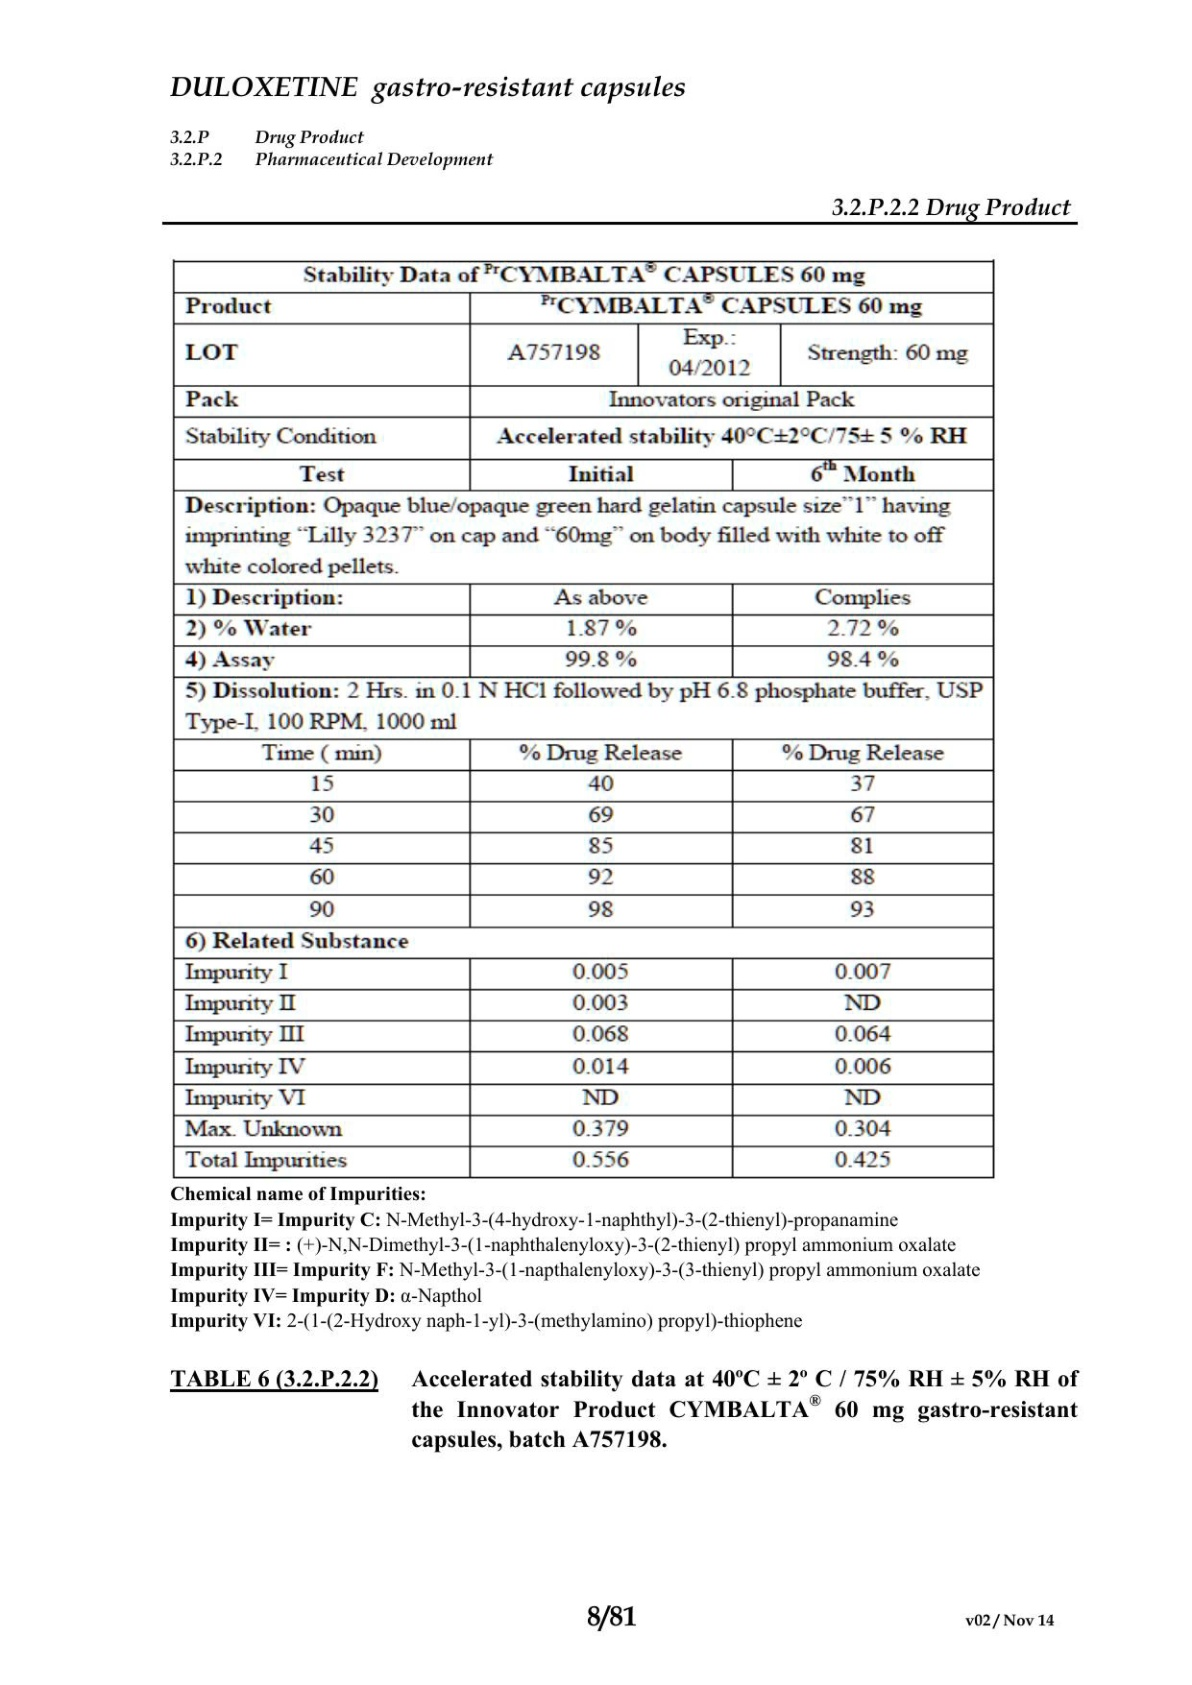merged_cells: (172, 257, 996, 1181)
